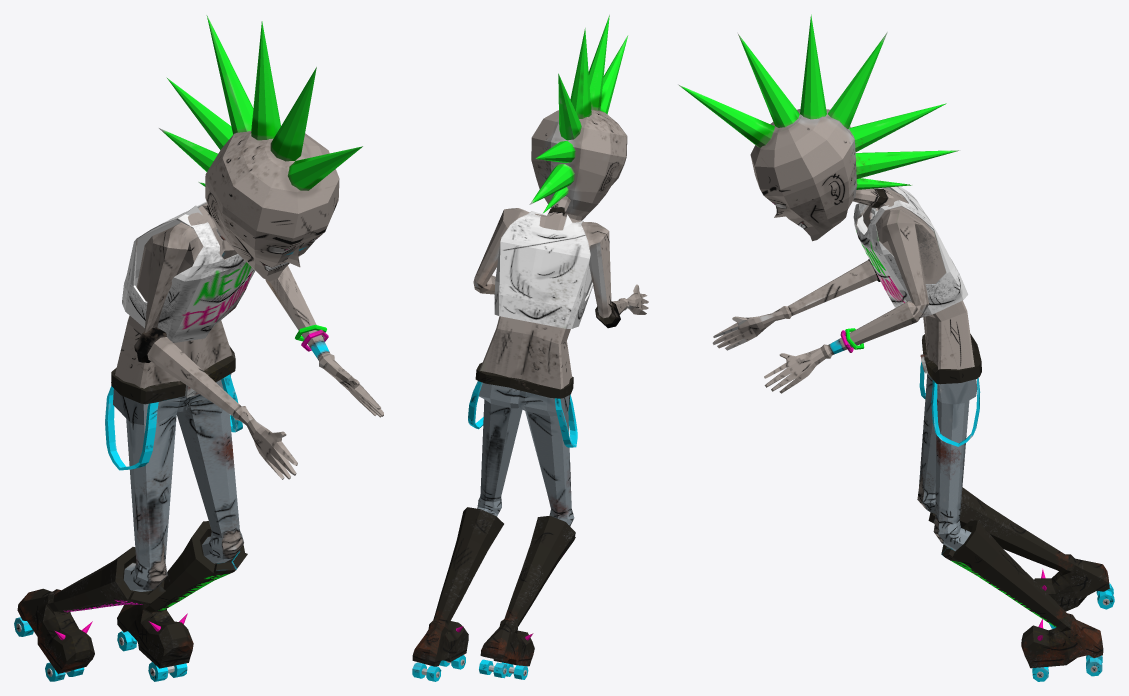
File: punkAnimation_000054.obj
The picture shows the model from 3 angles, left to right: view 1: azimuth 30°, elevation 25°; view 2: azimuth 150°, elevation 25°; view 3: azimuth 270°, elevation 25°; orthographic projection. The views are drawn at different scales.
Visible parts, largest first — view 1: Cube.004_Cube.003; view 2: Cube.004_Cube.003; view 3: Cube.004_Cube.003.
Boxes of the visible parts, x1,y1,x2,y2 form: Cube.004_Cube.003: [14, 15, 383, 681]; Cube.004_Cube.003: [412, 15, 648, 681]; Cube.004_Cube.003: [678, 14, 1114, 681].
Bounding box in the file's own units: 1.67 × 6.67 × 4.1.
